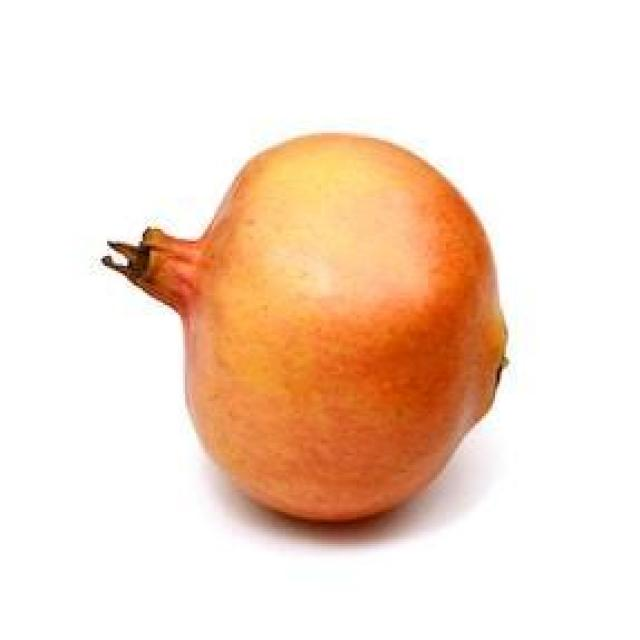Pomegranate: (94, 131, 512, 526)
